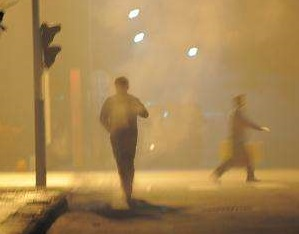person: (98, 76, 150, 211), (206, 91, 272, 185)
